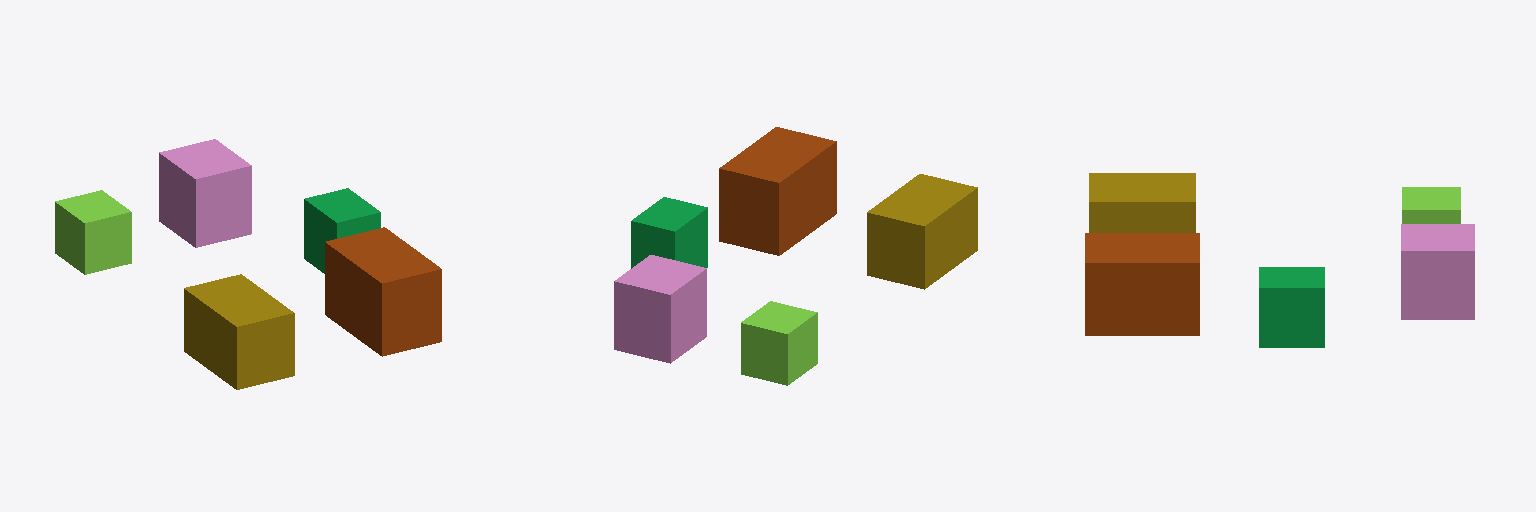
The model's file is leve.obj.
The picture shows the model from 3 angles: view 1: azimuth 30°, elevation 25°; view 2: azimuth 150°, elevation 25°; view 3: azimuth 270°, elevation 25°; orthographic projection.
Visible parts, largest first — view 1: Box002, Box005, Box001, Box004, Box003; view 2: Box002, Box005, Box001, Box004, Box003; view 3: Box002, Box001, Box005, Box003, Box004.
Boxes of the visible parts, x1=… form: Box002: x1=325, y1=227, x2=441, y2=356; Box005: x1=184, y1=274, x2=294, y2=389; Box001: x1=159, y1=139, x2=251, y2=247; Box004: x1=55, y1=190, x2=131, y2=274; Box003: x1=304, y1=188, x2=380, y2=273; Box002: x1=719, y1=127, x2=836, y2=255; Box005: x1=867, y1=174, x2=977, y2=289; Box001: x1=614, y1=255, x2=706, y2=363; Box004: x1=741, y1=301, x2=817, y2=385; Box003: x1=631, y1=197, x2=707, y2=268; Box002: x1=1085, y1=233, x2=1199, y2=335; Box001: x1=1401, y1=224, x2=1474, y2=319; Box005: x1=1089, y1=173, x2=1195, y2=232; Box003: x1=1259, y1=267, x2=1324, y2=347; Box004: x1=1402, y1=187, x2=1460, y2=223.
Size of the model in its own units: 17 by 5.18 by 25.